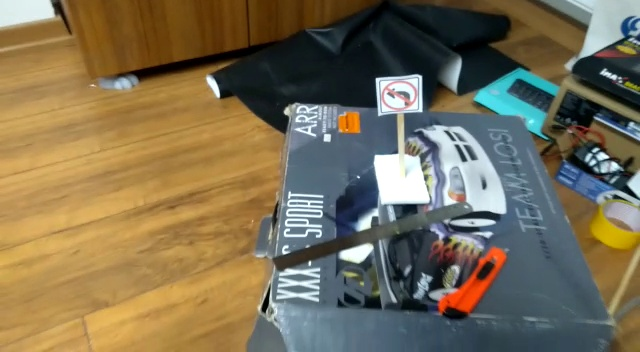sola_donulmez: (379, 77, 420, 114)
